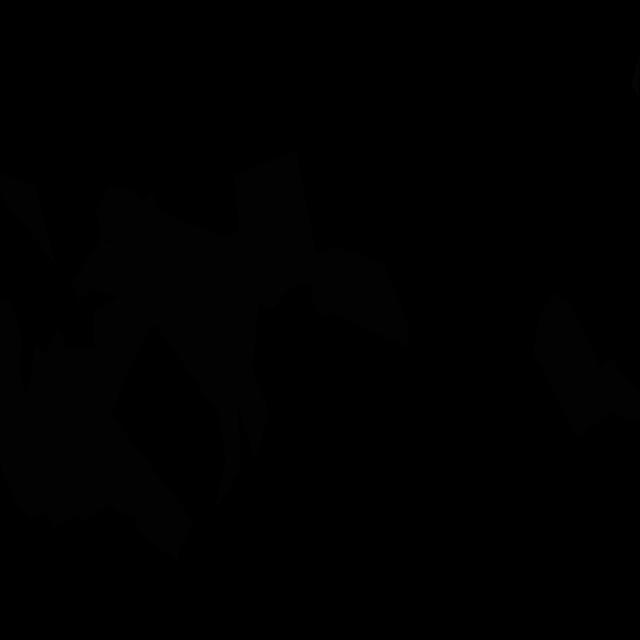cardboard: (0, 239, 242, 561), (96, 187, 270, 460), (532, 292, 640, 439), (234, 150, 316, 311), (302, 247, 409, 348), (0, 173, 56, 266)
soft_plastic: (631, 54, 640, 100)
